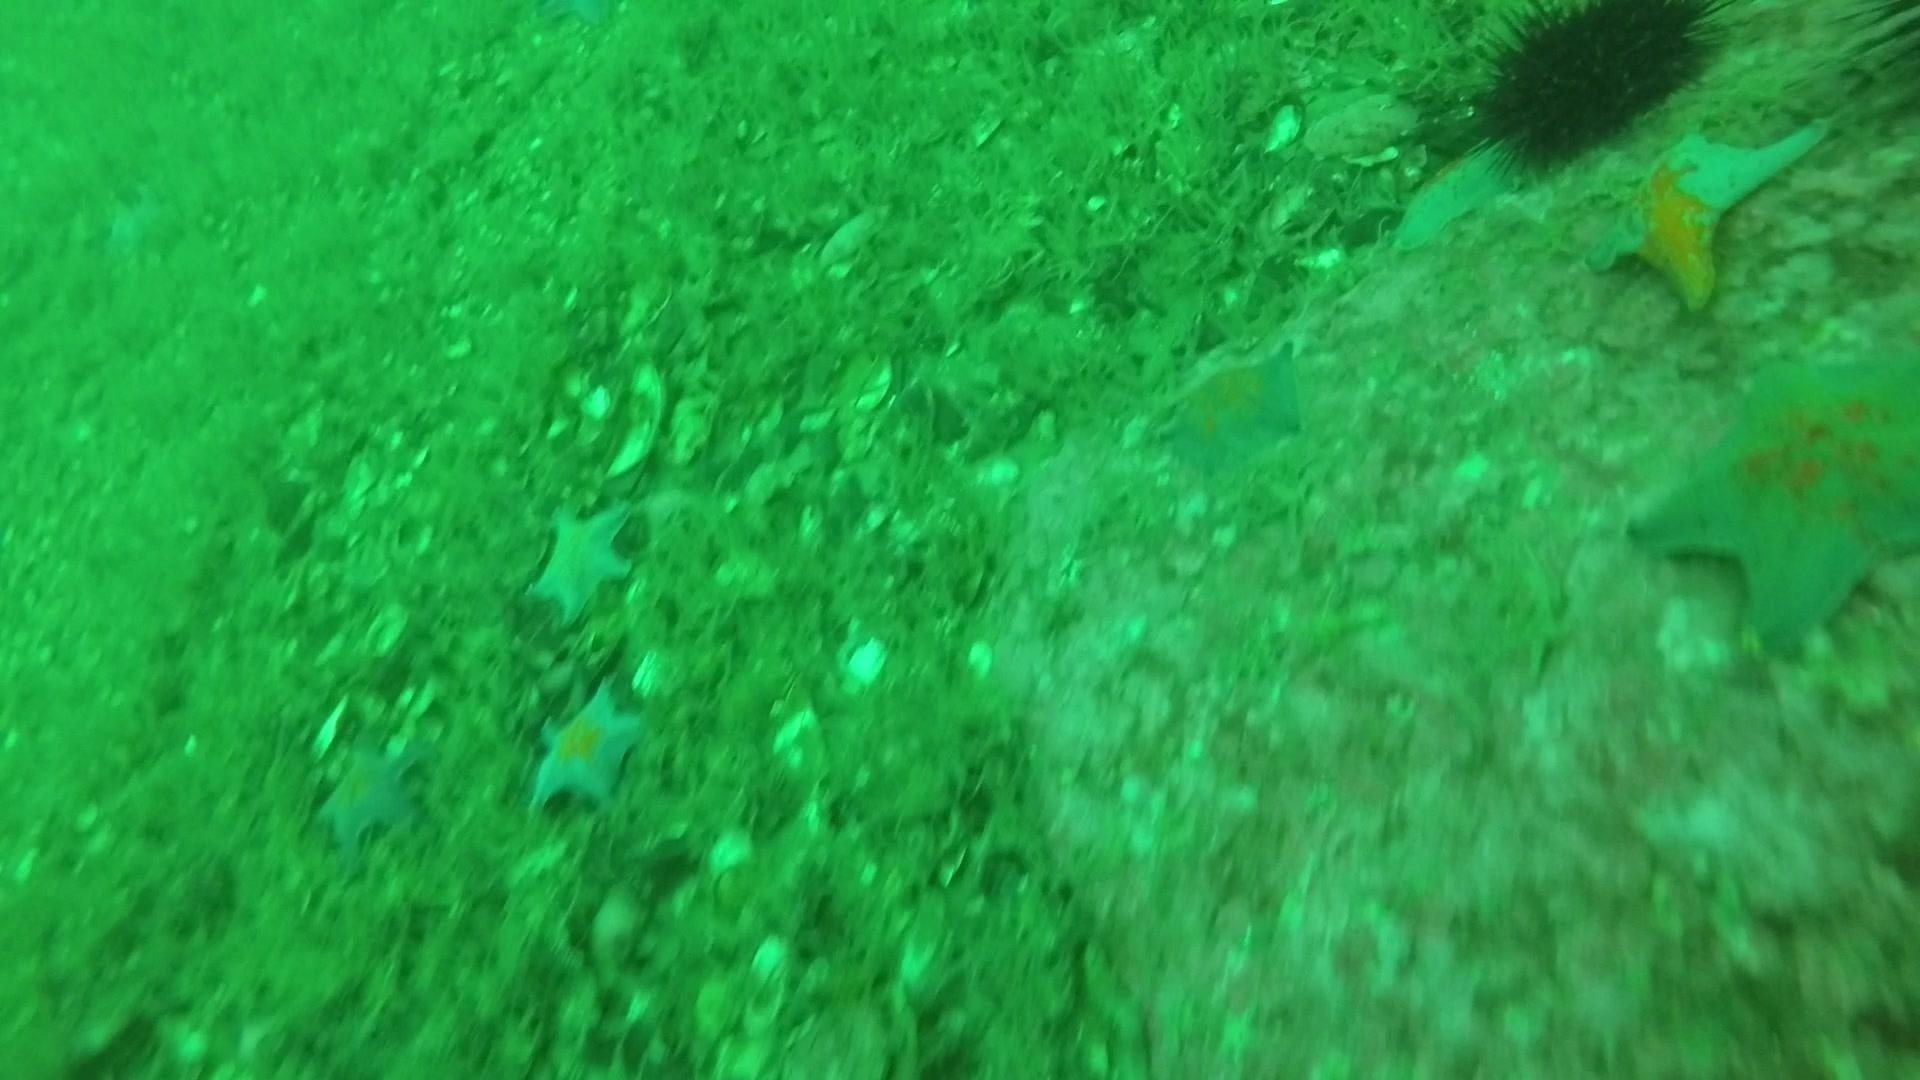echinus: (1461, 1, 1727, 178)
starfish: (1621, 345, 1917, 658), (1584, 108, 1842, 320), (1153, 336, 1316, 483), (518, 676, 654, 818), (303, 723, 436, 861), (517, 493, 647, 629), (1381, 138, 1524, 261), (84, 179, 189, 269), (529, 0, 626, 41)
